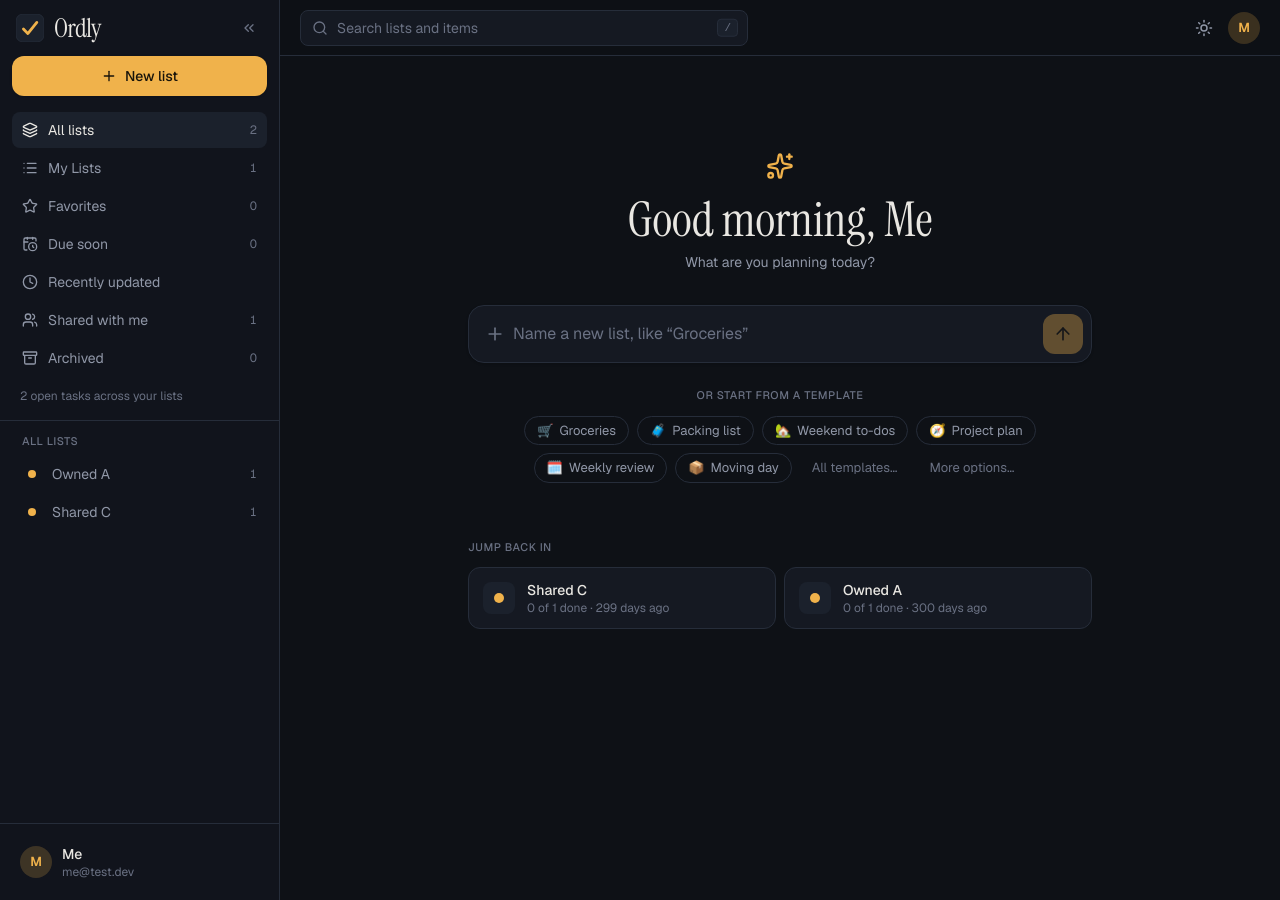
Test: existing sidebar behaviour is unchanged › collapsing the sidebar keeps My Lists reachable (icon + accessible name) and re-expanding restores the count
Expected: the navigation bar "lists" is shown, [0,0,279,899]
Expected: the field named "Name for a new list" is shown, [513,314,1035,354]
Click the button named "collapse sidebar" at x=249, y=28, box [235,14,263,42]
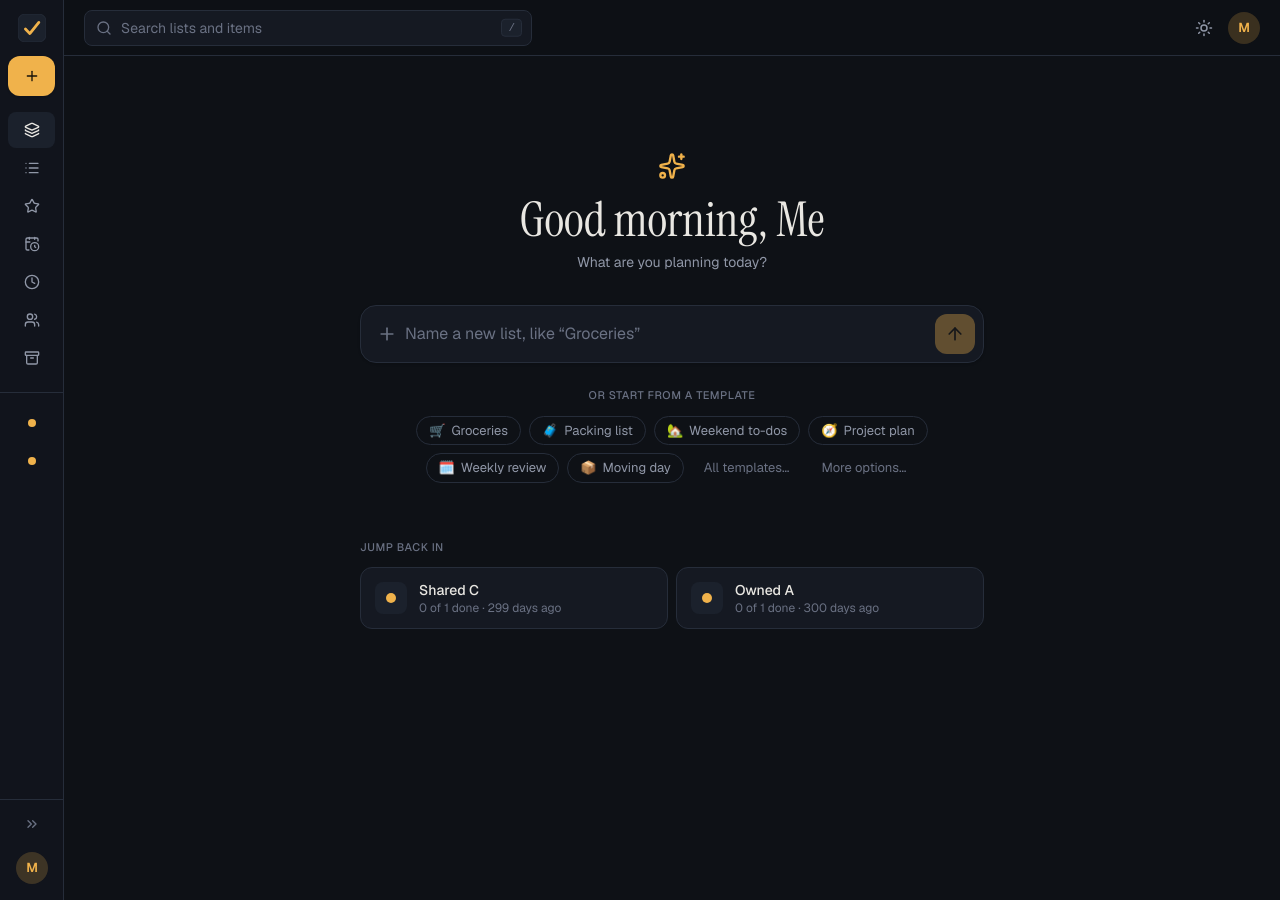
Result: the button named "expand sidebar" is shown at [8,808,55,840]
Click the button named "My Lists" at x=32, y=168, box [8,150,55,186]
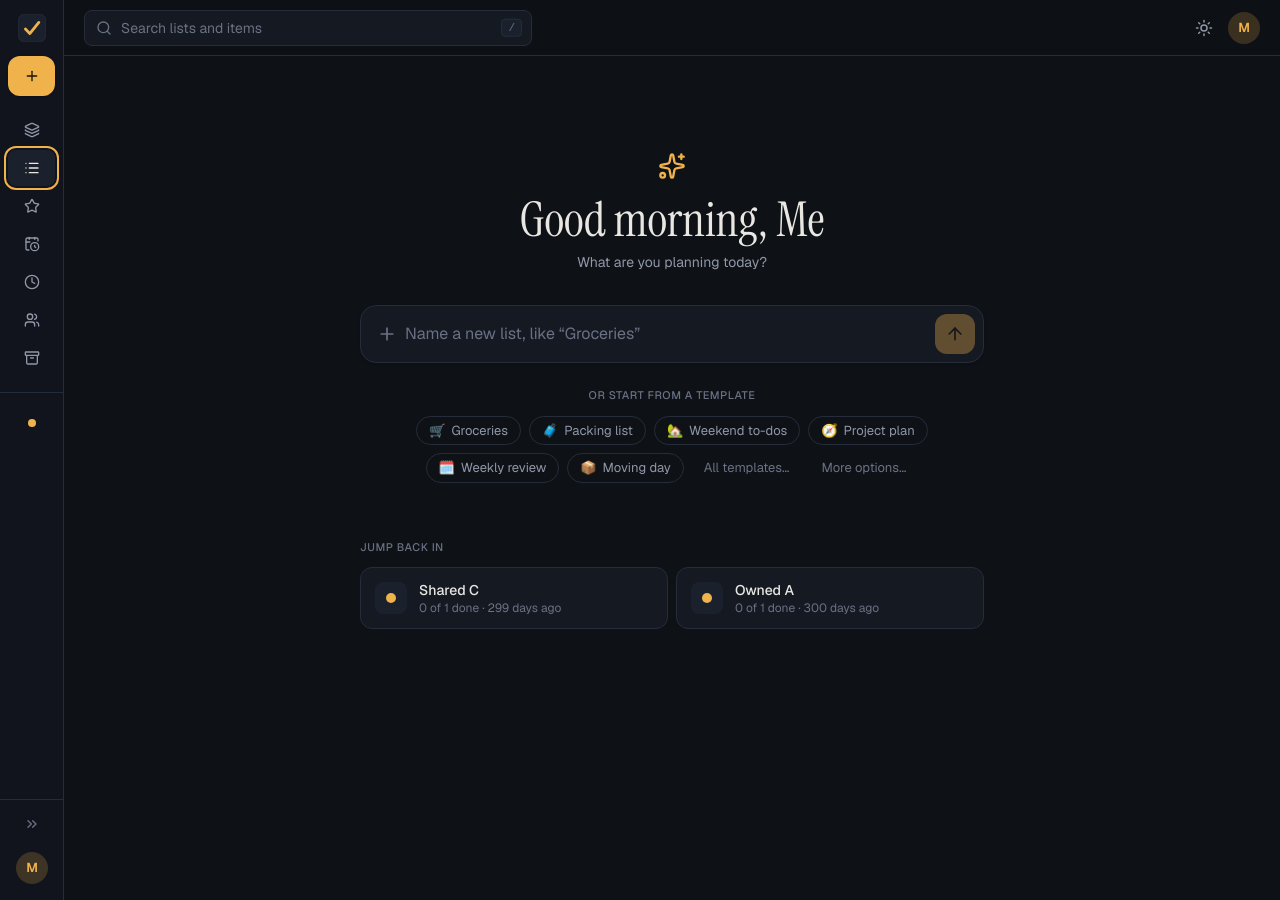
Result: the button named "My Lists" is marked as current at [8,150,55,186]
Click the button named "expand sidebar" at x=32, y=824, box [8,808,55,840]
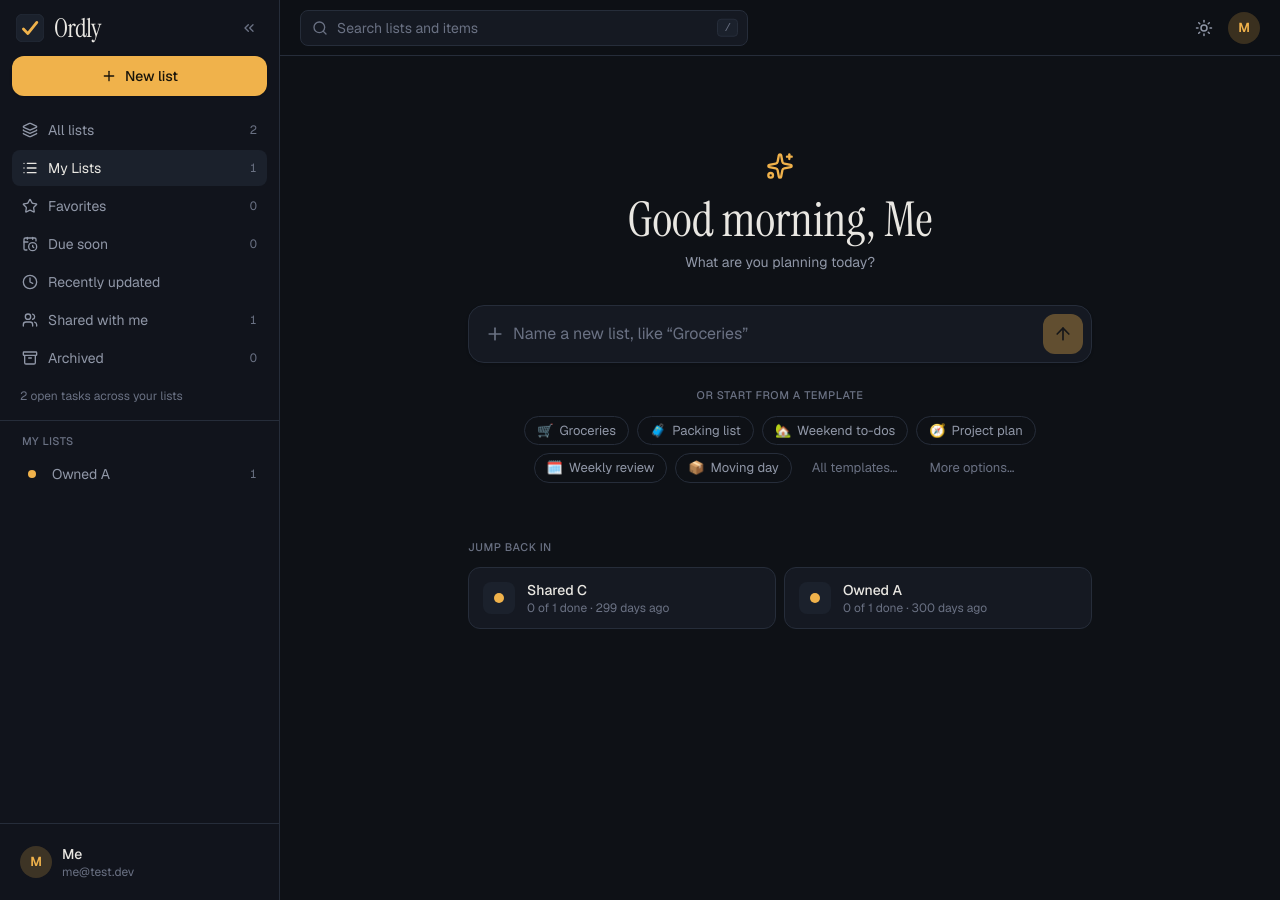
Result: the button named "collapse sidebar" is shown at [235,14,263,42]
